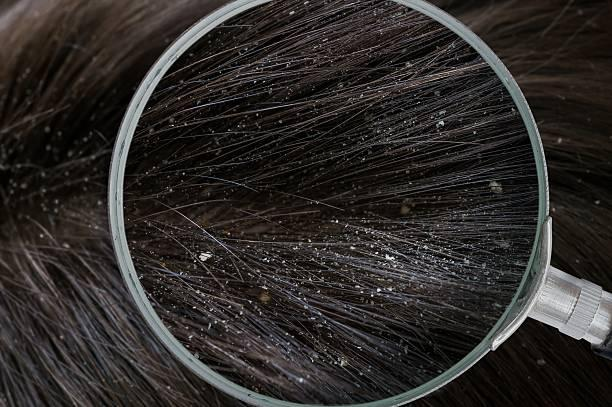dandruff: (429, 101, 456, 142), (188, 245, 214, 270), (374, 248, 400, 268), (331, 352, 352, 376), (252, 278, 274, 294), (401, 59, 417, 77), (230, 45, 245, 58)
